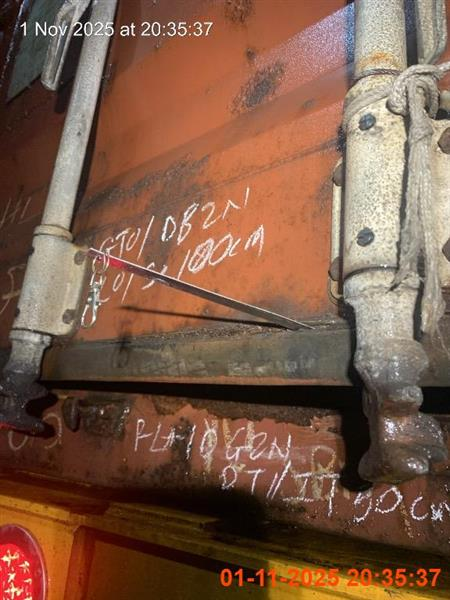dent: (0, 386, 449, 562), (0, 474, 448, 598)
